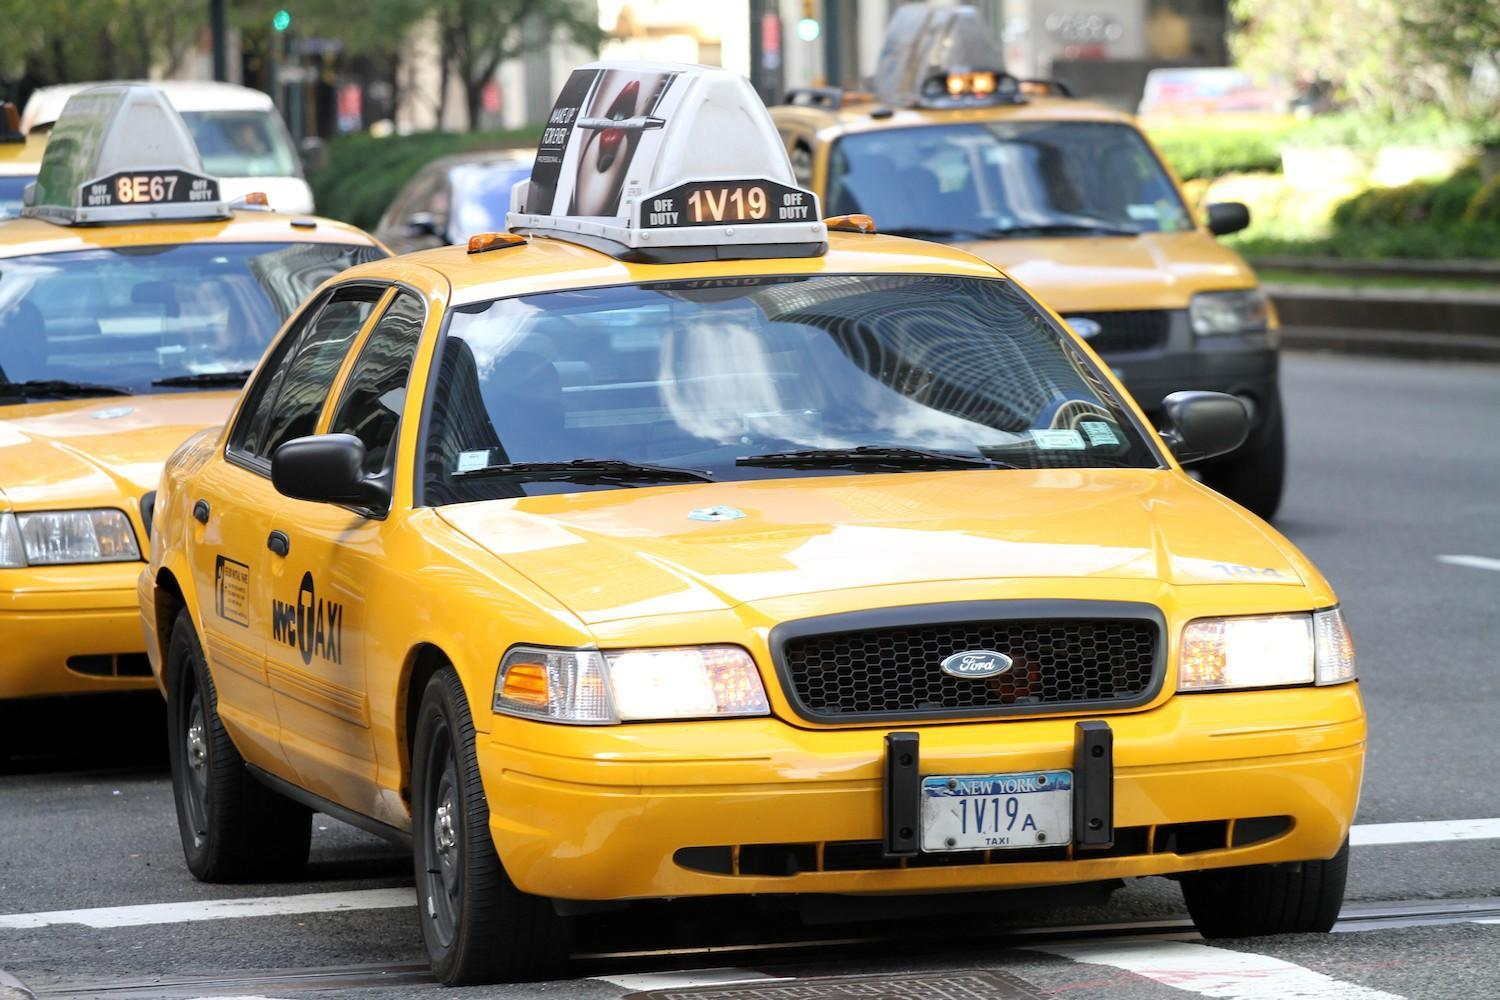taxi: (208, 249, 1417, 913)
